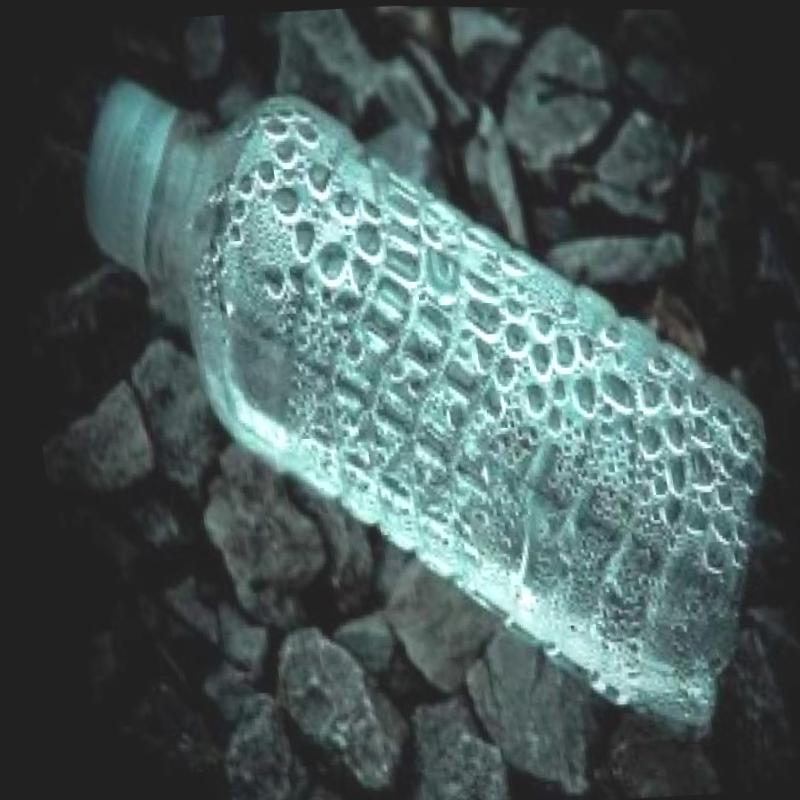botella: (61, 36, 800, 767)
